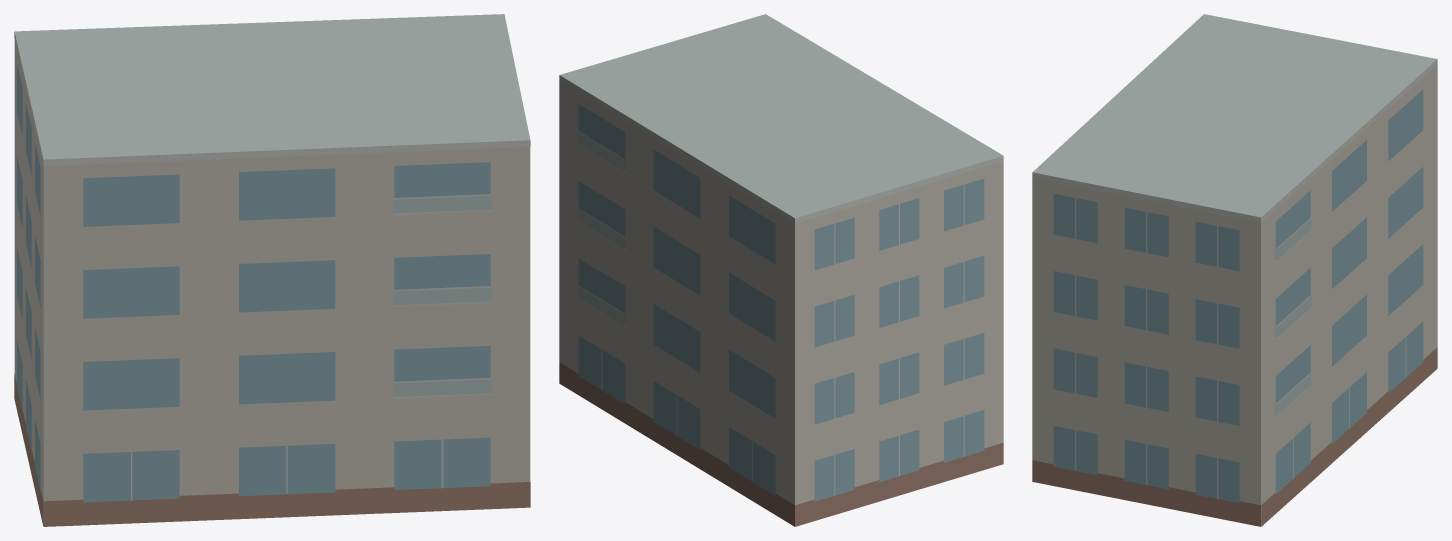
Rendered from survey-upis-32696699.glb.
3 renders of one model, left to right at view 1: azimuth 30°, elevation 25°; view 2: azimuth 150°, elevation 25°; view 3: azimuth 270°, elevation 25°, orthographic. The views are drawn at different scales.
Visible parts, largest first — view 1: survey-upis-32696699.tmp; view 2: survey-upis-32696699.tmp; view 3: survey-upis-32696699.tmp.
Part boxes in pixels (<box>): survey-upis-32696699.tmp: <box>14,14,530,526</box>; survey-upis-32696699.tmp: <box>559,14,1003,526</box>; survey-upis-32696699.tmp: <box>1032,14,1437,526</box>.
Bounding box in the file's own units: 19.25 × 13.65 × 16.21.
